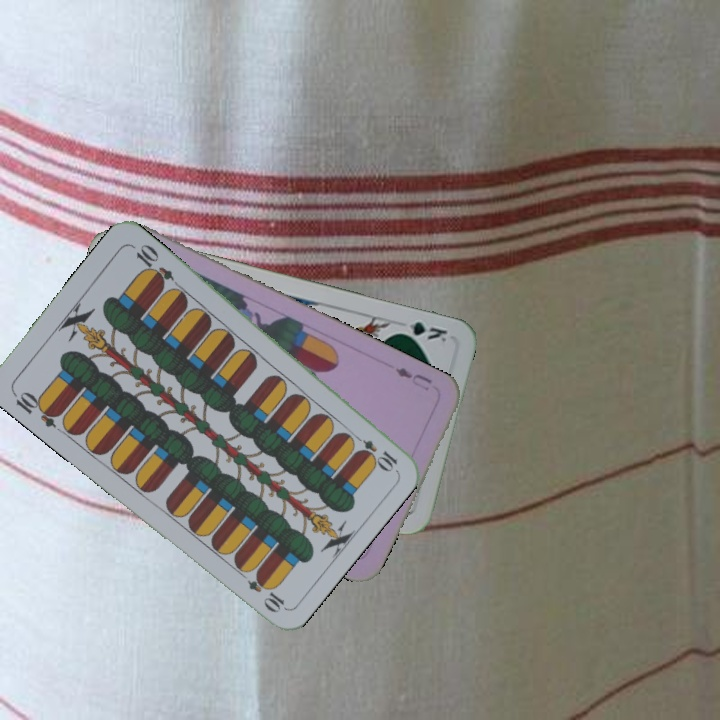E10: (8, 387, 63, 430), (347, 429, 400, 473)
EU: (390, 363, 435, 394)
GK: (392, 317, 450, 345)
